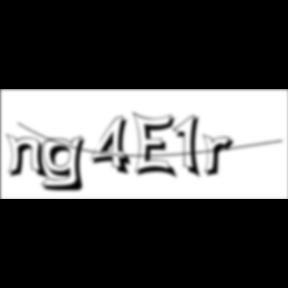1: (172, 114, 206, 182)
4: (90, 115, 138, 179)
E: (132, 110, 181, 182)
g: (41, 134, 93, 194)
n: (6, 132, 53, 181)
r: (203, 134, 241, 180)
